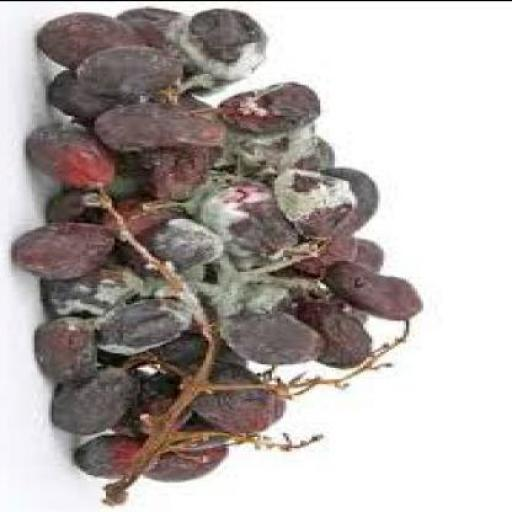biodegradable: (118, 7, 224, 93), (171, 6, 272, 86), (200, 250, 321, 308), (212, 180, 298, 256), (29, 120, 122, 189), (223, 308, 332, 365), (98, 102, 226, 150), (15, 220, 123, 276), (40, 11, 148, 67), (54, 363, 140, 432), (330, 258, 426, 319), (77, 42, 186, 95), (284, 165, 360, 237), (222, 79, 324, 131), (128, 218, 226, 272), (49, 67, 152, 118), (91, 299, 192, 351), (303, 300, 375, 368), (37, 314, 103, 383), (48, 264, 146, 310), (314, 166, 381, 232), (146, 142, 226, 196), (72, 430, 166, 475), (203, 383, 289, 432), (232, 122, 318, 168), (100, 196, 183, 238), (154, 439, 240, 479), (120, 376, 183, 430), (166, 328, 243, 370), (294, 234, 361, 272), (149, 264, 212, 302), (48, 187, 114, 222), (280, 132, 334, 170), (103, 166, 154, 198), (202, 362, 269, 384), (328, 294, 372, 324), (354, 234, 389, 271)
